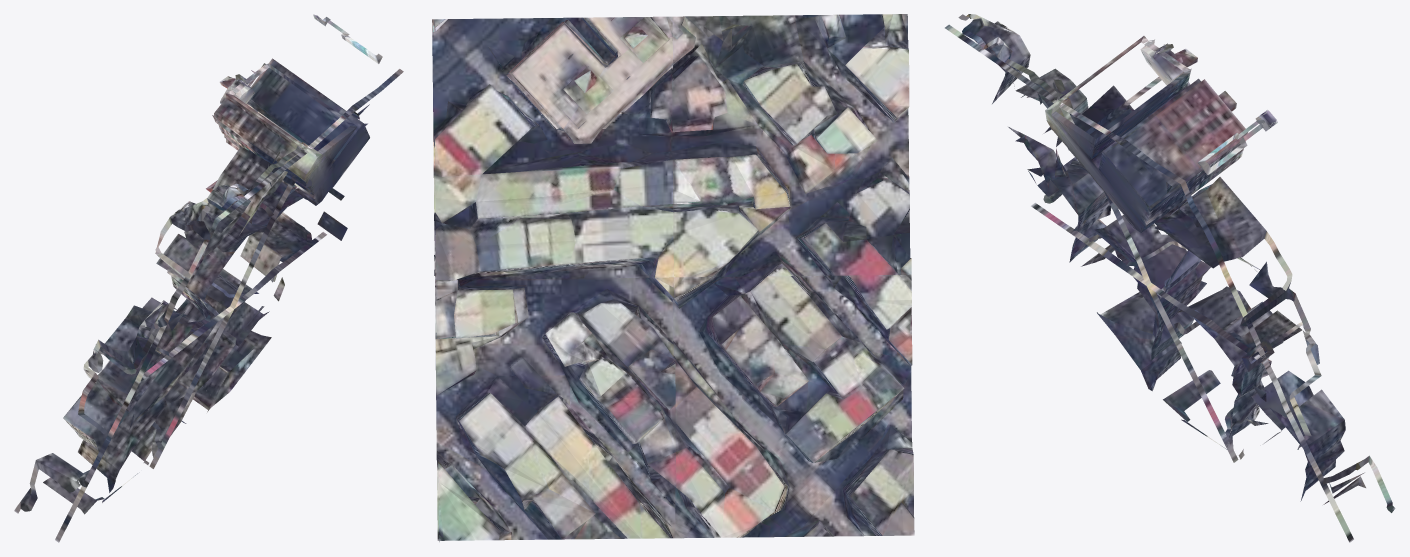
The picture shows the model from 3 angles, left to right: view 1: azimuth 30°, elevation 25°; view 2: azimuth 150°, elevation 25°; view 3: azimuth 270°, elevation 25°; orthographic projection. The views are drawn at different scales.
Size of the model in its own units: 160 by 155 by 141.
2 materials, 2 textured.
